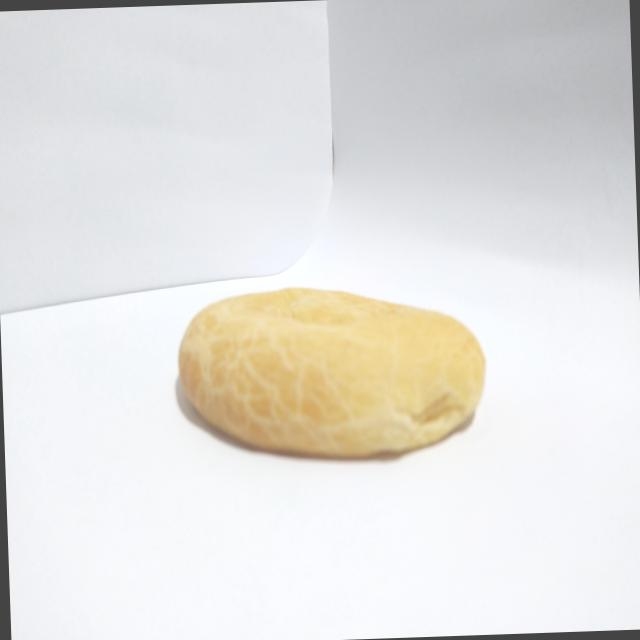Chipa: (168, 260, 493, 477)
